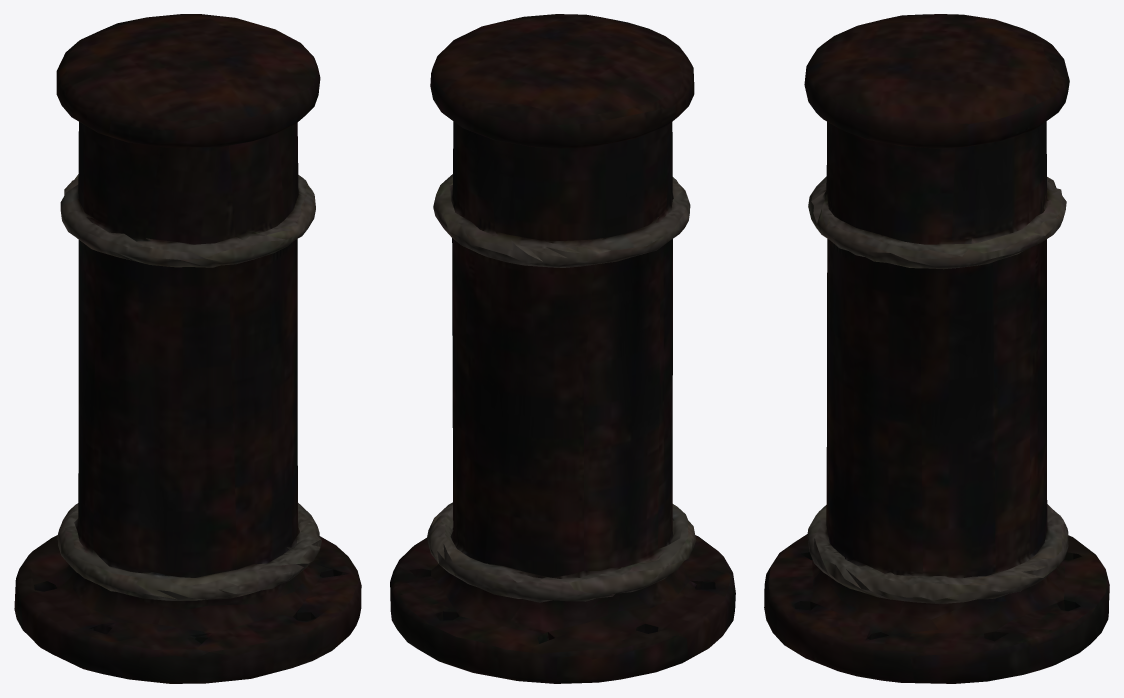
The model's file is bollard.glb.
The picture shows the model from 3 angles, left to right: view 1: azimuth 30°, elevation 25°; view 2: azimuth 150°, elevation 25°; view 3: azimuth 270°, elevation 25°; orthographic projection.
Parts seen in each view (by area): view 1: bollard; view 2: bollard; view 3: bollard.
Part boxes in pixels (x1=…): bollard: x1=14, y1=14, x2=361, y2=683; bollard: x1=390, y1=14, x2=735, y2=683; bollard: x1=764, y1=14, x2=1109, y2=683.
Bounding box in the file's own units: 0.3311 × 0.6 × 0.3311.
1 material, 1 textured.
